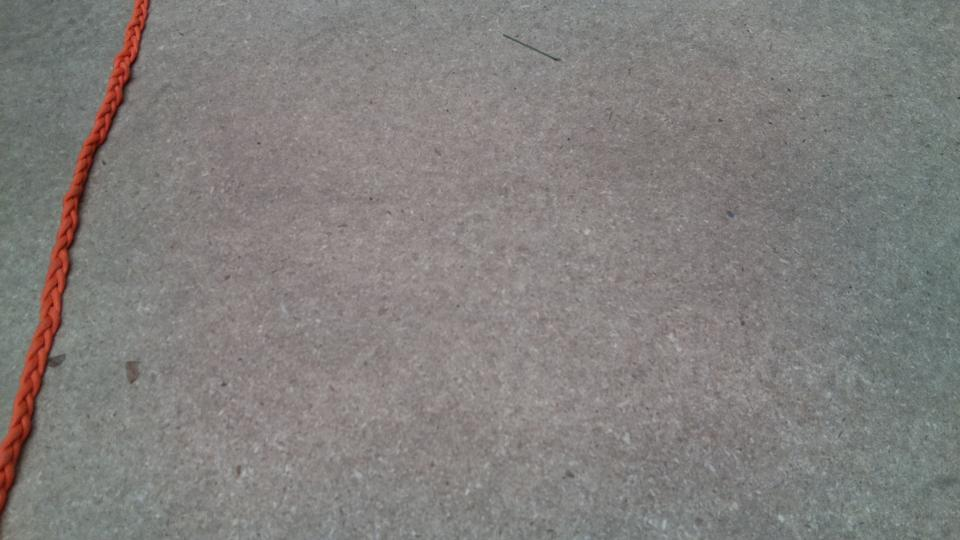rope: (1, 1, 152, 500)
